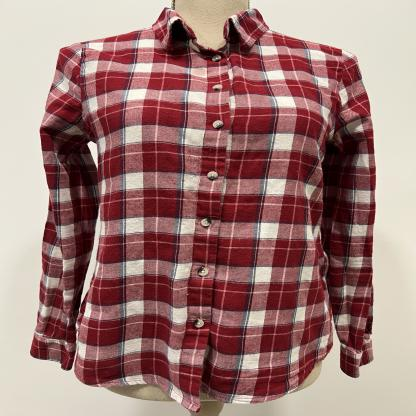stain: (188, 65, 212, 76)
